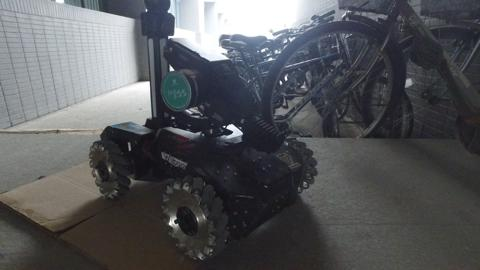bike: (261, 15, 474, 143)
chariot: (88, 3, 303, 252)
